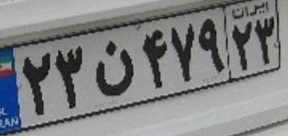character: (90, 35, 137, 101), (52, 44, 87, 112), (21, 48, 54, 119), (167, 19, 196, 86), (140, 28, 169, 91), (197, 14, 227, 73), (230, 19, 254, 72), (254, 16, 277, 67)
